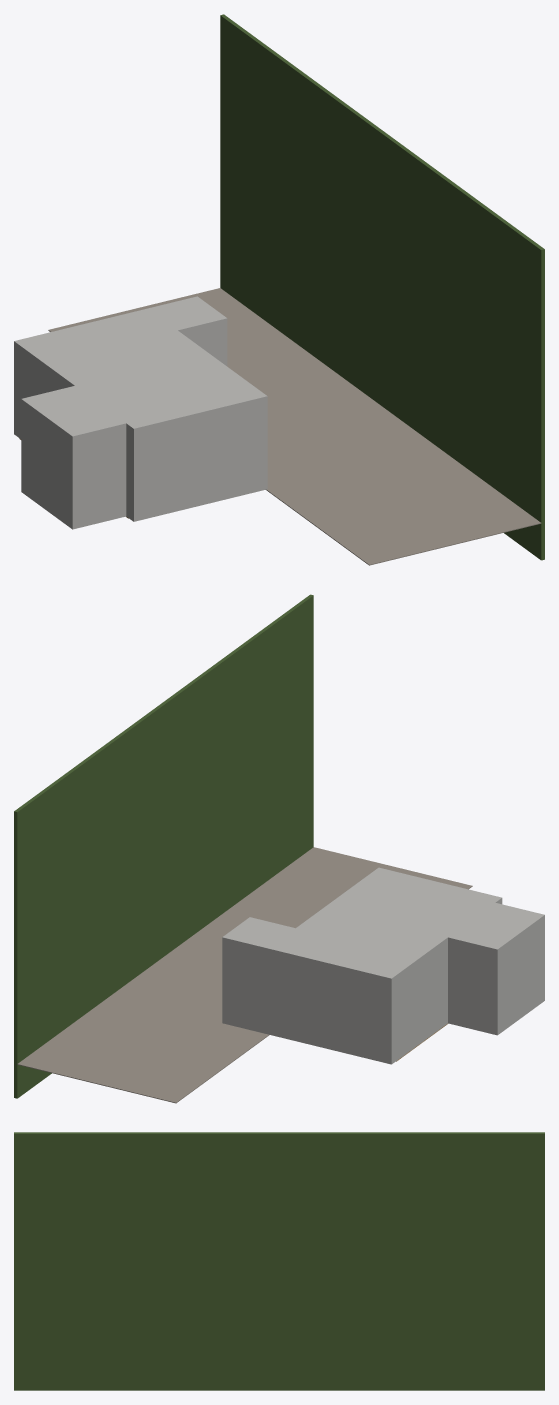
Rendered from kitchen.glb.
The picture shows the model from 3 angles, top to bottom: view 1: azimuth 30°, elevation 25°; view 2: azimuth 150°, elevation 25°; view 3: azimuth 270°, elevation 25°; orthographic projection. The views are drawn at different scales.
Parts seen in each view (by area): view 1: WX_Kitchen; view 2: WX_Kitchen; view 3: WX_Kitchen.
Boxes of the visible parts, x1,y1,x2,y2 form: WX_Kitchen: [14, 14, 544, 565]; WX_Kitchen: [14, 594, 544, 1103]; WX_Kitchen: [14, 1132, 544, 1390].
Size of the model in its own units: 9.8 by 8 by 15.
Materials: 13 (10 with a texture image).
